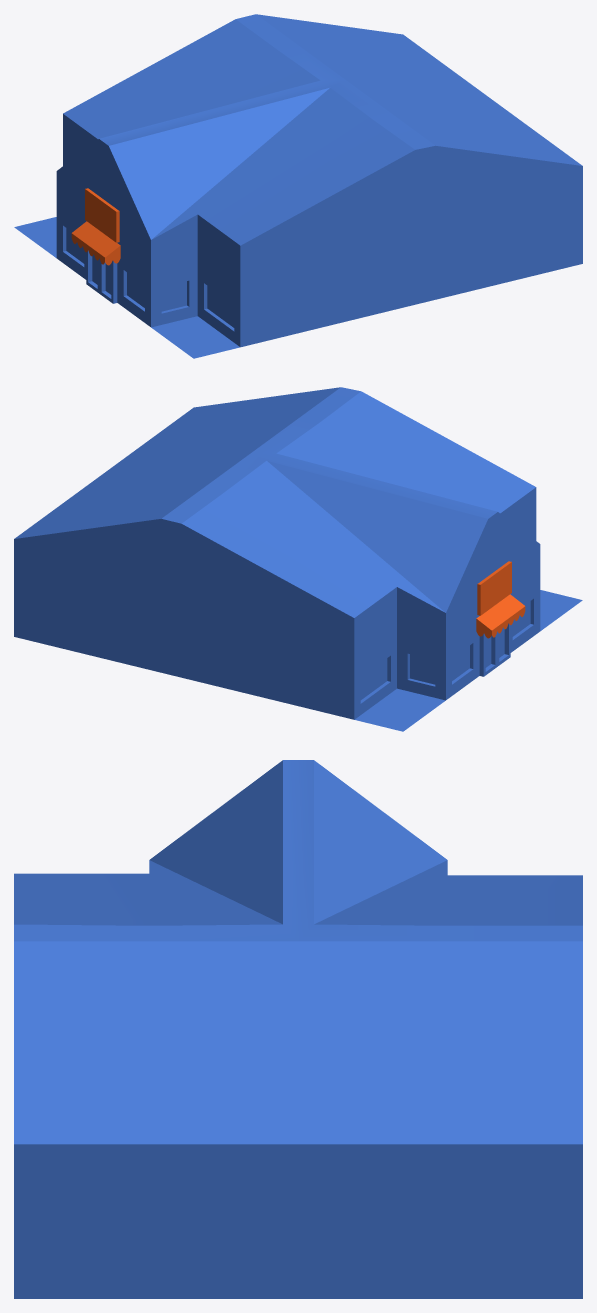
The model's file is Negocio3x2.fbx.
The picture shows the model from 3 angles, top to bottom: view 1: azimuth 30°, elevation 25°; view 2: azimuth 150°, elevation 25°; view 3: azimuth 270°, elevation 25°; orthographic projection. The views are drawn at different scales.
Visible parts, largest first — view 1: Negocio3x2, Banner; view 2: Negocio3x2, Banner; view 3: Negocio3x2.
Boxes of the visible parts, x1,y1,x2,y2 form: Negocio3x2: (14, 14, 582, 358); Banner: (71, 188, 120, 265); Negocio3x2: (14, 387, 582, 731); Banner: (476, 561, 525, 638); Negocio3x2: (14, 760, 582, 1298).
Bounding box in the file's own units: 1024 × 374 × 787.
